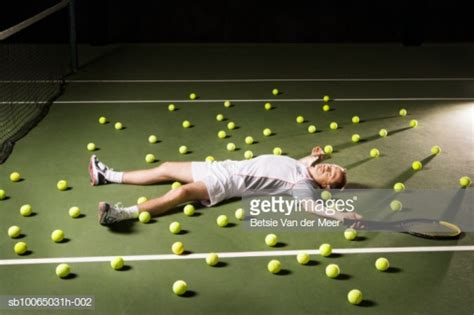tennis_ball: (172, 280, 188, 295), (55, 263, 71, 278), (347, 289, 363, 304), (325, 263, 340, 278), (110, 256, 124, 271), (205, 252, 219, 267), (375, 257, 389, 272), (171, 241, 185, 255), (268, 259, 282, 273), (14, 241, 27, 256), (296, 251, 310, 264), (344, 227, 357, 241), (51, 229, 64, 242), (68, 206, 81, 218), (8, 225, 20, 238), (20, 204, 32, 217), (169, 221, 181, 234), (216, 214, 228, 227), (319, 243, 331, 256), (183, 204, 195, 216), (265, 233, 277, 245), (390, 200, 402, 212), (393, 182, 405, 194), (459, 176, 471, 188), (139, 211, 150, 224), (321, 190, 332, 202), (411, 160, 422, 171), (57, 180, 67, 191), (9, 172, 20, 182), (235, 208, 245, 219), (370, 148, 380, 159), (244, 135, 254, 146), (145, 153, 155, 163), (431, 145, 441, 155), (351, 133, 361, 143), (137, 196, 147, 205), (171, 181, 181, 190), (148, 134, 157, 144), (244, 150, 253, 160), (226, 142, 236, 151), (295, 114, 304, 124), (307, 124, 316, 134), (378, 128, 388, 137), (408, 119, 418, 128), (215, 113, 224, 122), (226, 121, 235, 130), (324, 145, 333, 154), (273, 147, 282, 156), (329, 121, 338, 130), (351, 115, 360, 124), (87, 142, 95, 152), (114, 121, 122, 130), (179, 145, 187, 154), (218, 130, 226, 139), (271, 87, 279, 96), (399, 108, 407, 117), (98, 116, 106, 124), (223, 100, 231, 108), (263, 128, 271, 136), (264, 102, 272, 110), (322, 104, 330, 112), (205, 156, 215, 162), (182, 120, 189, 128), (168, 103, 175, 111), (189, 92, 196, 100), (322, 95, 330, 102), (1, 189, 6, 200)
